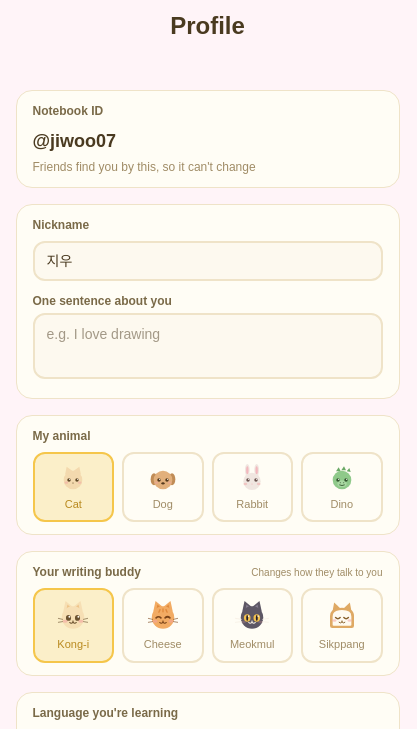
it: 고르면 바로 저장 › 동반 동물을 바꾼다
Click the button "Dino" at (342, 487), box top-left (301, 452), bottom-right (382, 522)
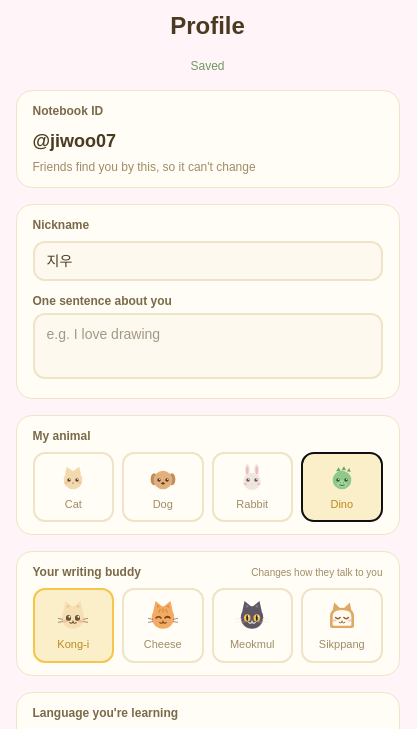
Expected: the text "Saved" is shown, top-left (190, 59), bottom-right (224, 73)
